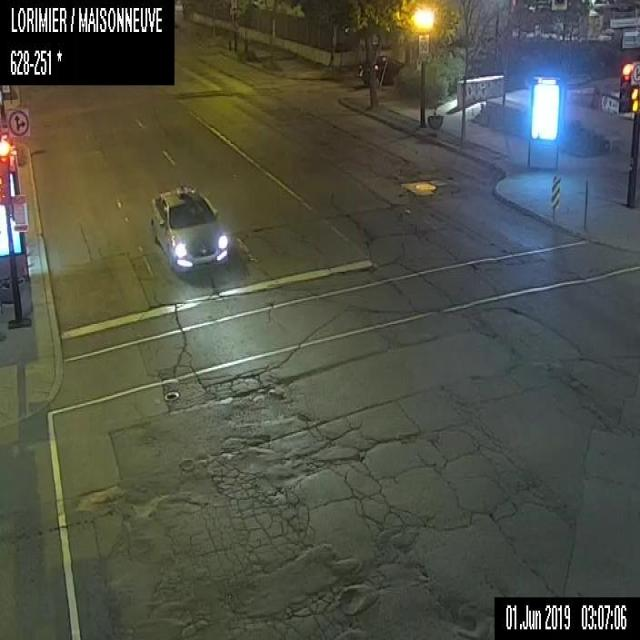vehicle: (148, 186, 229, 274), (357, 54, 402, 83)
